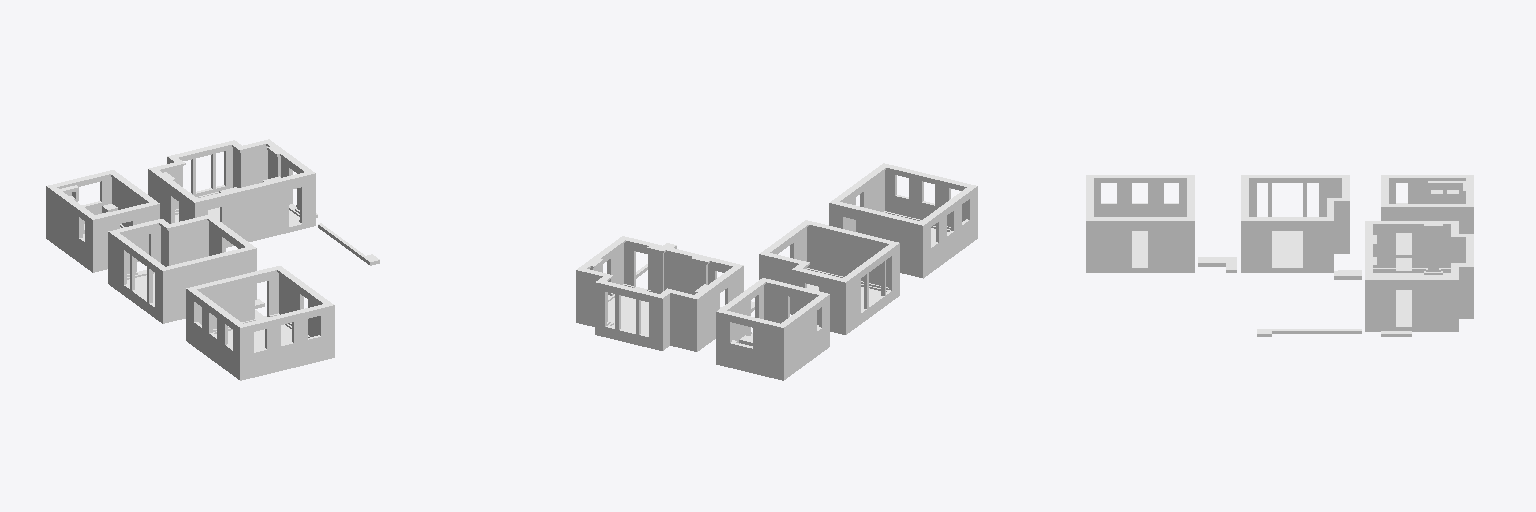
The model's file is Mansion3.obj.
3 views of the same model, side by side, from view 1: azimuth 30°, elevation 25°; view 2: azimuth 150°, elevation 25°; view 3: azimuth 270°, elevation 25° (orthographic).
Parts seen in each view (by area): view 1: Unity__-225_-60_84_to_-158_319_188; view 2: Unity__-225_-60_84_to_-158_319_188; view 3: Unity__-225_-60_84_to_-158_319_188.
Part boxes in pixels (x1,y1,x2,y2): Unity__-225_-60_84_to_-158_319_188: (46,139,379,380); Unity__-225_-60_84_to_-158_319_188: (576,163,977,380); Unity__-225_-60_84_to_-158_319_188: (1086,175,1473,336).
Bounding box in the file's own units: 67 × 15 × 100.